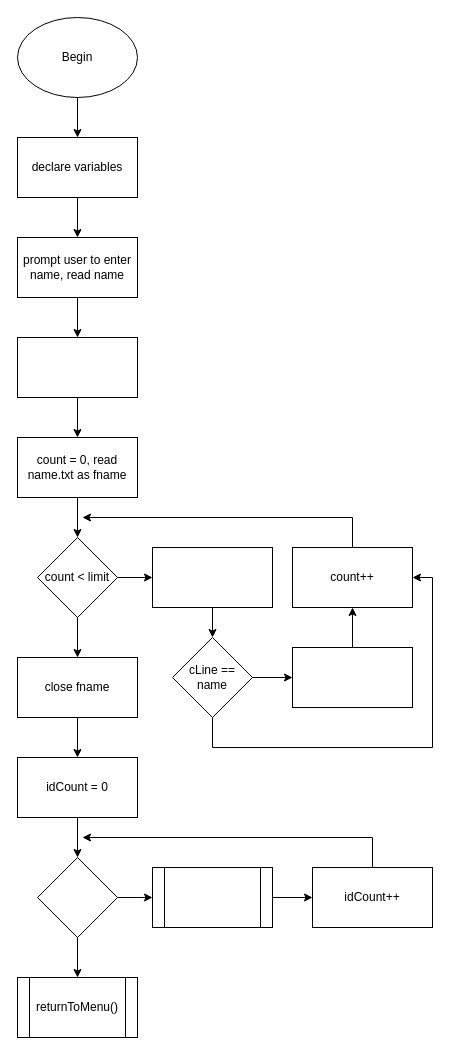
This 458x1055 diagram has some shape labels left out. Each missing label, with the box of its shape:
actualSearch(idHolder[idCount]): (152, 866, 272, 928)
cLine = fname: (152, 546, 272, 608)
idCatch = count + 1, idHolder[idIndex] = idCatch, idIndex++: (292, 646, 412, 708)
idCount < idIndex: (36, 856, 118, 938)
read nextid.txt as fidlimit, read fidlimit to limit, close fidlimit: (16, 336, 138, 398)
